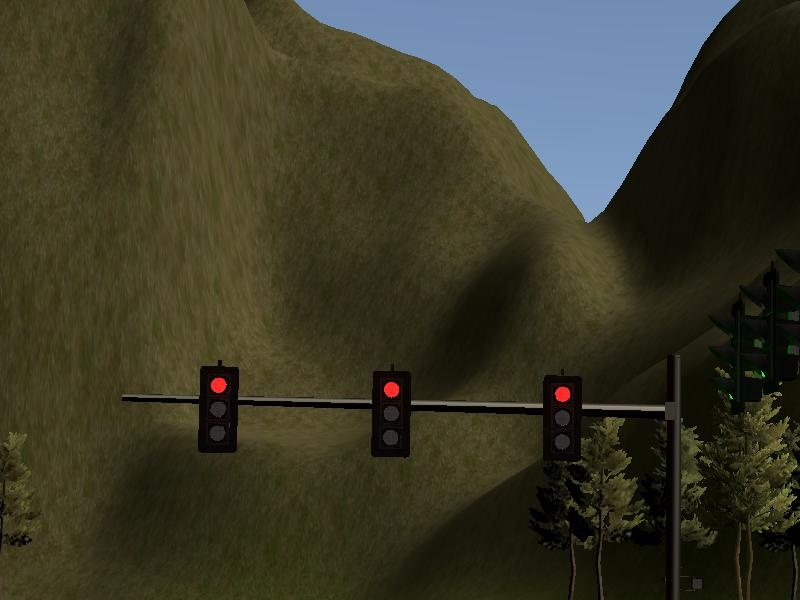red: (539, 367, 584, 467), (369, 365, 415, 462), (196, 359, 243, 453)
